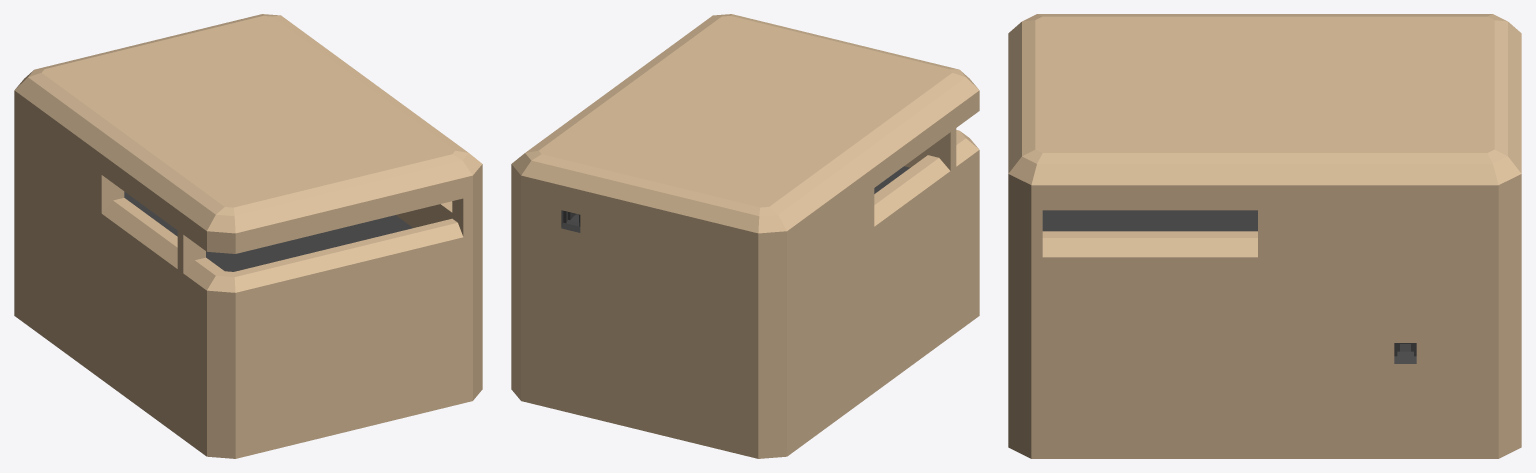
The model's file is bunker-big.fbx.
3 views of the same model, side by side, from view 1: azimuth 30°, elevation 25°; view 2: azimuth 150°, elevation 25°; view 3: azimuth 270°, elevation 25° (orthographic). The views are drawn at different scales.
Parts seen in each view (by area): view 1: bunker-big; view 2: bunker-big; view 3: bunker-big.
Part boxes in pixels (x1,y1,x2,y2): bunker-big: (14,14,482,458); bunker-big: (511,14,979,458); bunker-big: (1008,14,1521,458).
Size of the model in its own units: 8.1 by 6.77 by 10.76.
